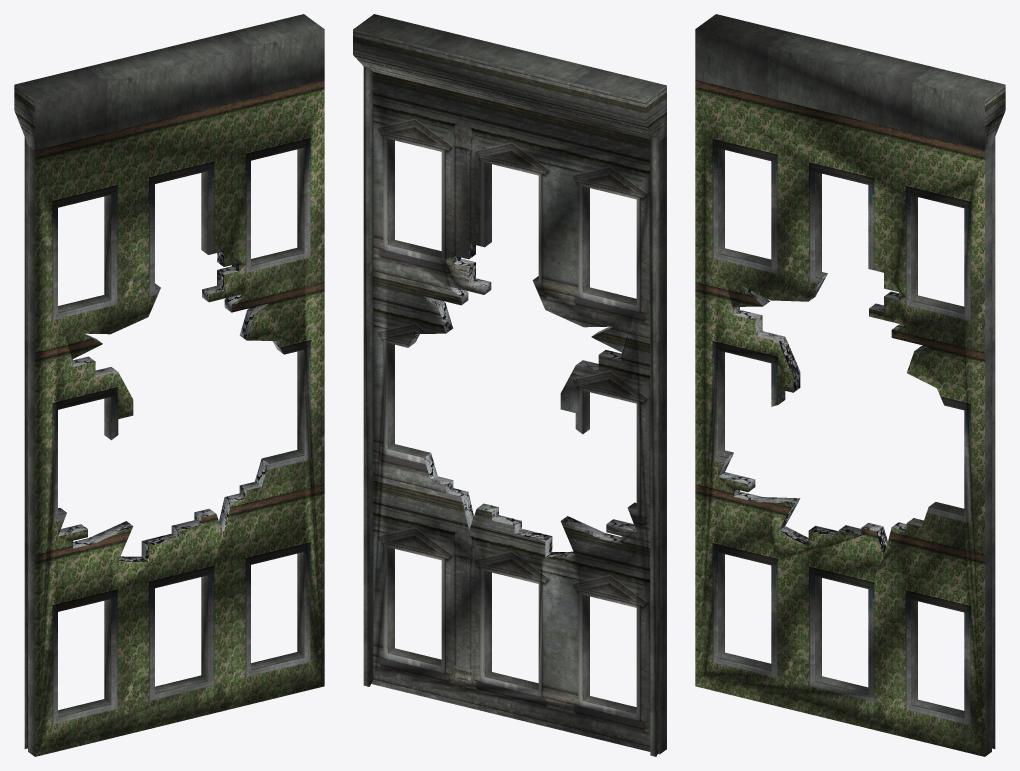
3 renders of one model, left to right at view 1: azimuth 30°, elevation 25°; view 2: azimuth 150°, elevation 25°; view 3: azimuth 330°, elevation 25°, orthographic.
Parts seen in each view (by area): view 1: TTR_SMBuild384b; view 2: TTR_SMBuild384b; view 3: TTR_SMBuild384b.
Part boxes in pixels (x1,y1,x2,y2): TTR_SMBuild384b: (14, 14, 324, 756); TTR_SMBuild384b: (353, 14, 666, 756); TTR_SMBuild384b: (695, 14, 1005, 756).
Size of the model in its own units: 11.52 by 1.44 by 24.96.
5 materials, 5 textured.
